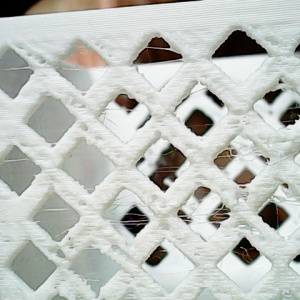3dpstringing: (178, 193, 233, 231), (223, 142, 265, 189), (107, 198, 155, 235), (96, 108, 144, 128), (131, 56, 189, 69), (61, 64, 108, 78), (4, 59, 36, 77), (259, 192, 297, 207), (232, 245, 253, 270), (49, 226, 78, 244), (142, 164, 187, 175), (4, 154, 38, 168), (40, 205, 77, 214), (140, 43, 175, 51), (274, 81, 295, 93), (189, 86, 214, 96), (157, 148, 179, 158), (78, 87, 91, 99)
3dpunderextrusion: (76, 123, 123, 159), (47, 85, 89, 115), (103, 241, 142, 271), (38, 242, 76, 267), (70, 195, 96, 213)
